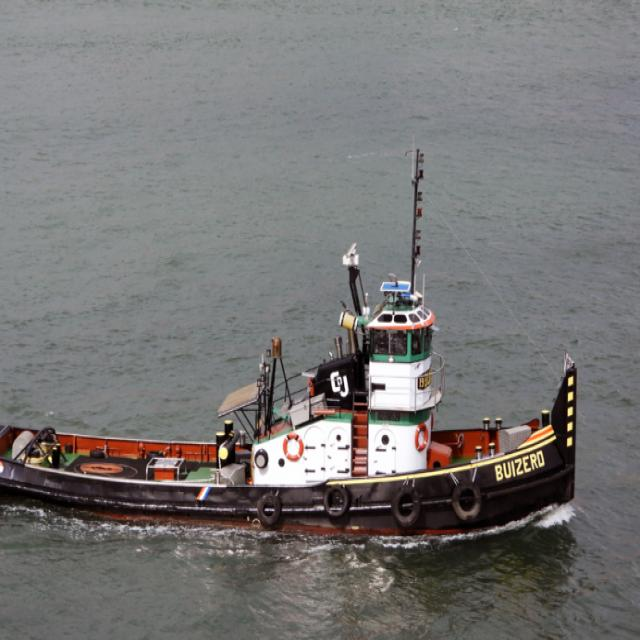tugboat: (1, 133, 582, 563)
